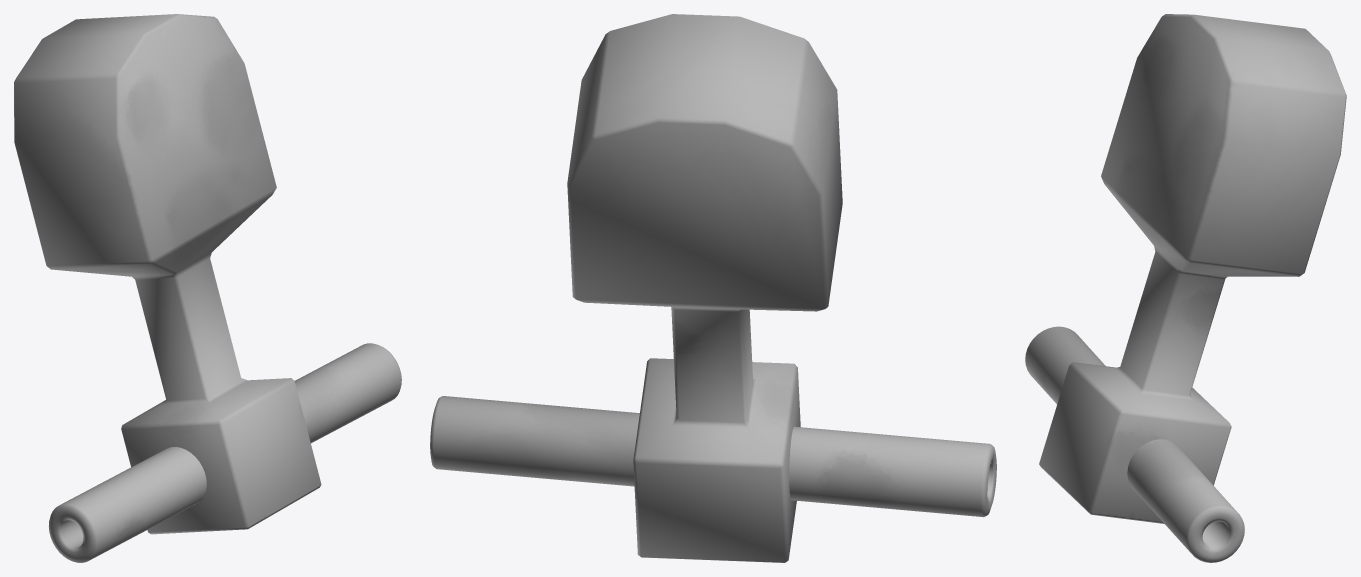
File: tyrolkaHandle.fbx
3 views of the same model, side by side, from view 1: azimuth 30°, elevation 25°; view 2: azimuth 150°, elevation 25°; view 3: azimuth 270°, elevation 25° (orthographic). The views are drawn at different scales.
Visible parts, largest first — view 1: Cube, Cylinder; view 2: Cube, Cylinder; view 3: Cube, Cylinder.
Part boxes in pixels (left/top/right/bottom): Cube: left=14, top=14, right=321, bottom=534; Cylinder: left=48, top=343, right=401, bottom=562; Cube: left=567, top=14, right=842, bottom=562; Cylinder: left=430, top=396, right=996, bottom=517; Cube: left=1039, top=14, right=1346, bottom=523; Cylinder: left=1025, top=326, right=1244, bottom=562.
Bounding box in the file's own units: 14.95 × 16.84 × 10.35.
Materials: 1 (1 with a texture image).
